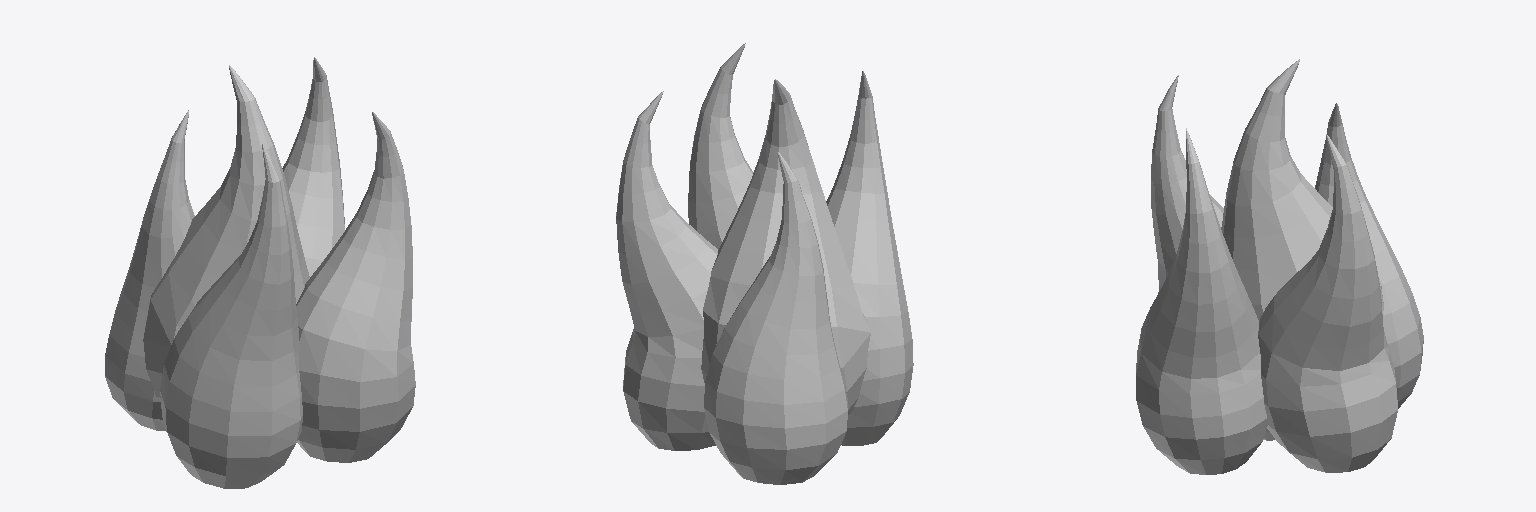
Rendered from fire_000035.obj.
3 renders of one model, left to right at view 1: azimuth 30°, elevation 25°; view 2: azimuth 150°, elevation 25°; view 3: azimuth 270°, elevation 25°, orthographic.
Parts seen in each view (by area): view 1: flame_NurbsPath.015; view 2: flame_NurbsPath.015; view 3: flame_NurbsPath.015.
Boxes of the visible parts, x1,y1,x2,y2 form: flame_NurbsPath.015: [105, 57, 415, 488]; flame_NurbsPath.015: [616, 43, 913, 484]; flame_NurbsPath.015: [1136, 59, 1423, 474].
Size of the model in its own units: 0.7412 by 1.18 by 0.8117.